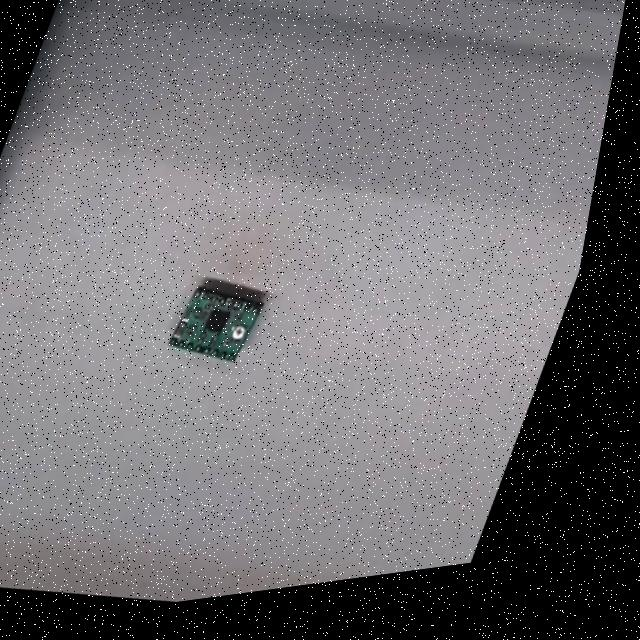Chip: (158, 271, 276, 373)
